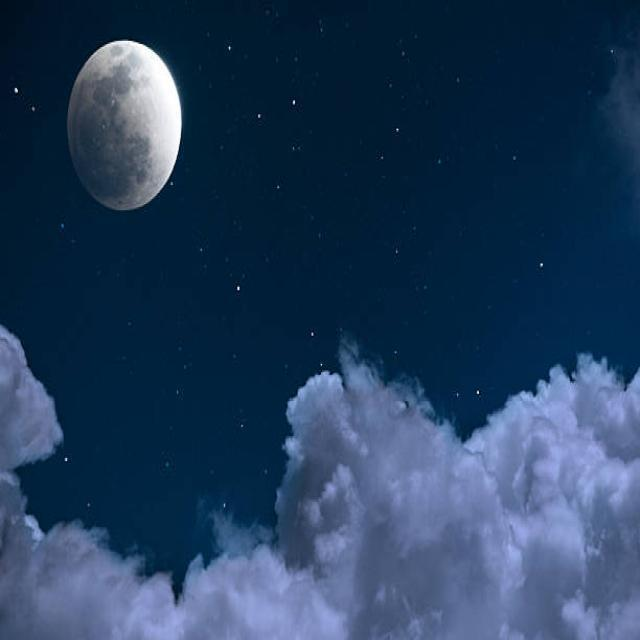moon: (64, 40, 184, 208)
